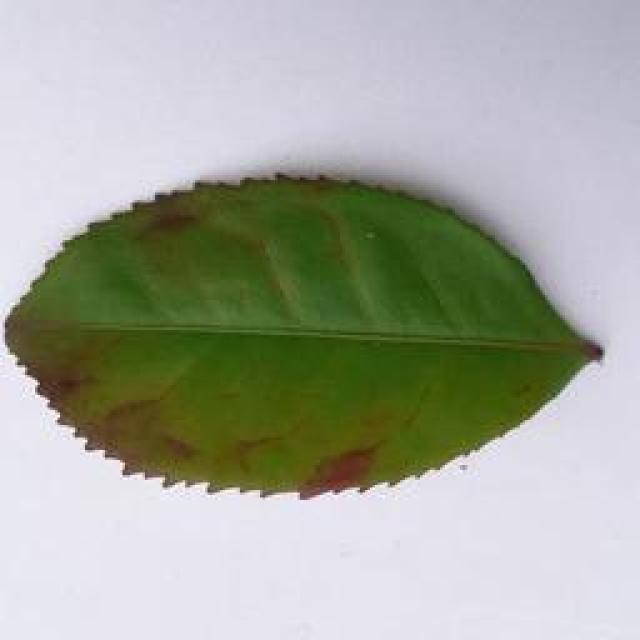Red Leaf Spot: (0, 155, 640, 514)
